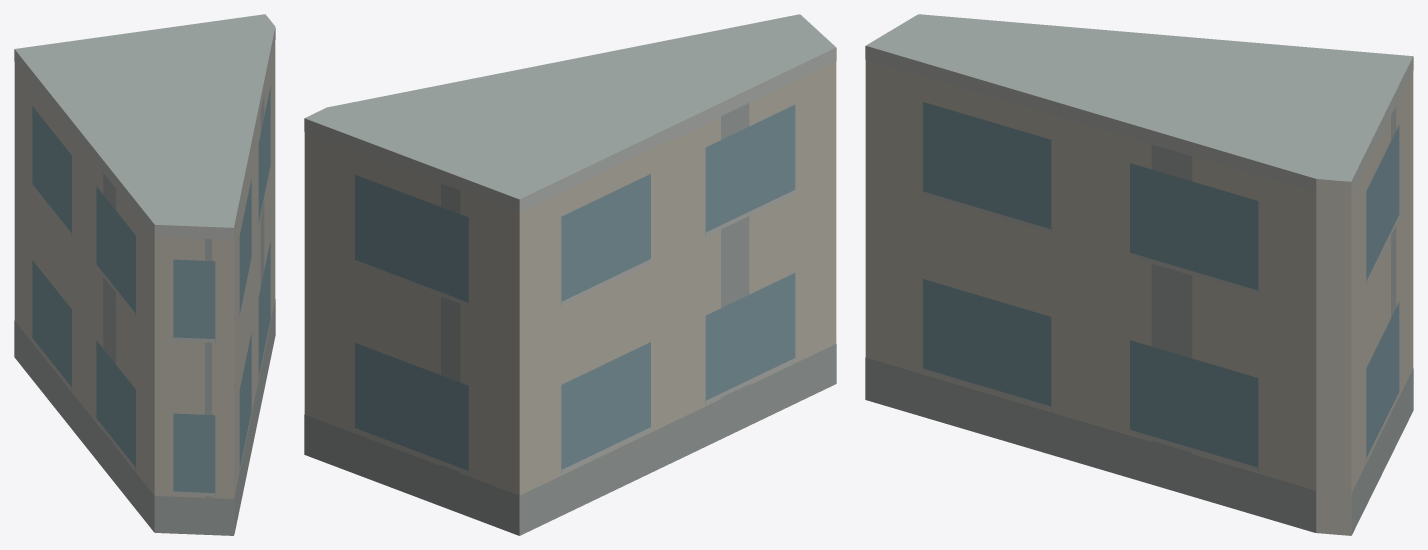
File: residential-87caafc0-d3aa-4a61-8610-b28713b00877.glb
The picture shows the model from 3 angles, left to right: view 1: azimuth 30°, elevation 25°; view 2: azimuth 150°, elevation 25°; view 3: azimuth 270°, elevation 25°; orthographic projection. The views are drawn at different scales.
Visible parts, largest first — view 1: residential-87caafc0-d3aa-4a61-8610-b28713b00877.tmp; view 2: residential-87caafc0-d3aa-4a61-8610-b28713b00877.tmp; view 3: residential-87caafc0-d3aa-4a61-8610-b28713b00877.tmp.
Boxes of the visible parts, x1,y1,x2,y2 form: residential-87caafc0-d3aa-4a61-8610-b28713b00877.tmp: [14, 14, 275, 535]; residential-87caafc0-d3aa-4a61-8610-b28713b00877.tmp: [304, 14, 836, 535]; residential-87caafc0-d3aa-4a61-8610-b28713b00877.tmp: [865, 14, 1413, 535].
Size of the model in its own units: 6.2 by 6.1 by 8.56.
